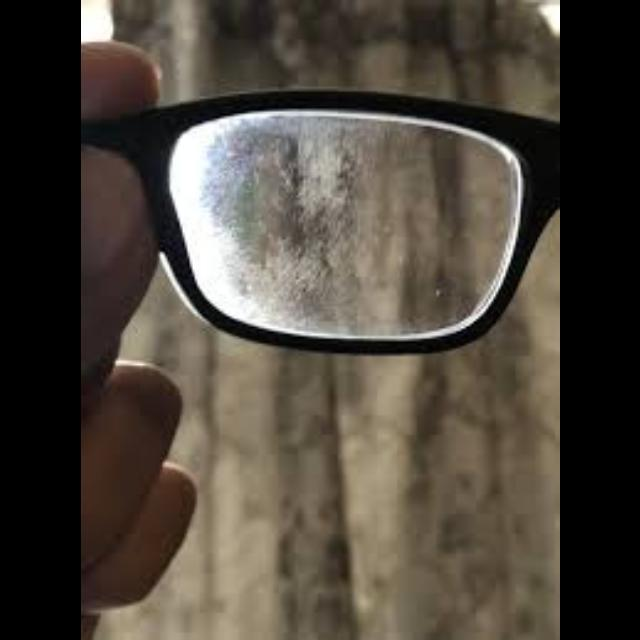mask: (80, 92, 560, 356)
